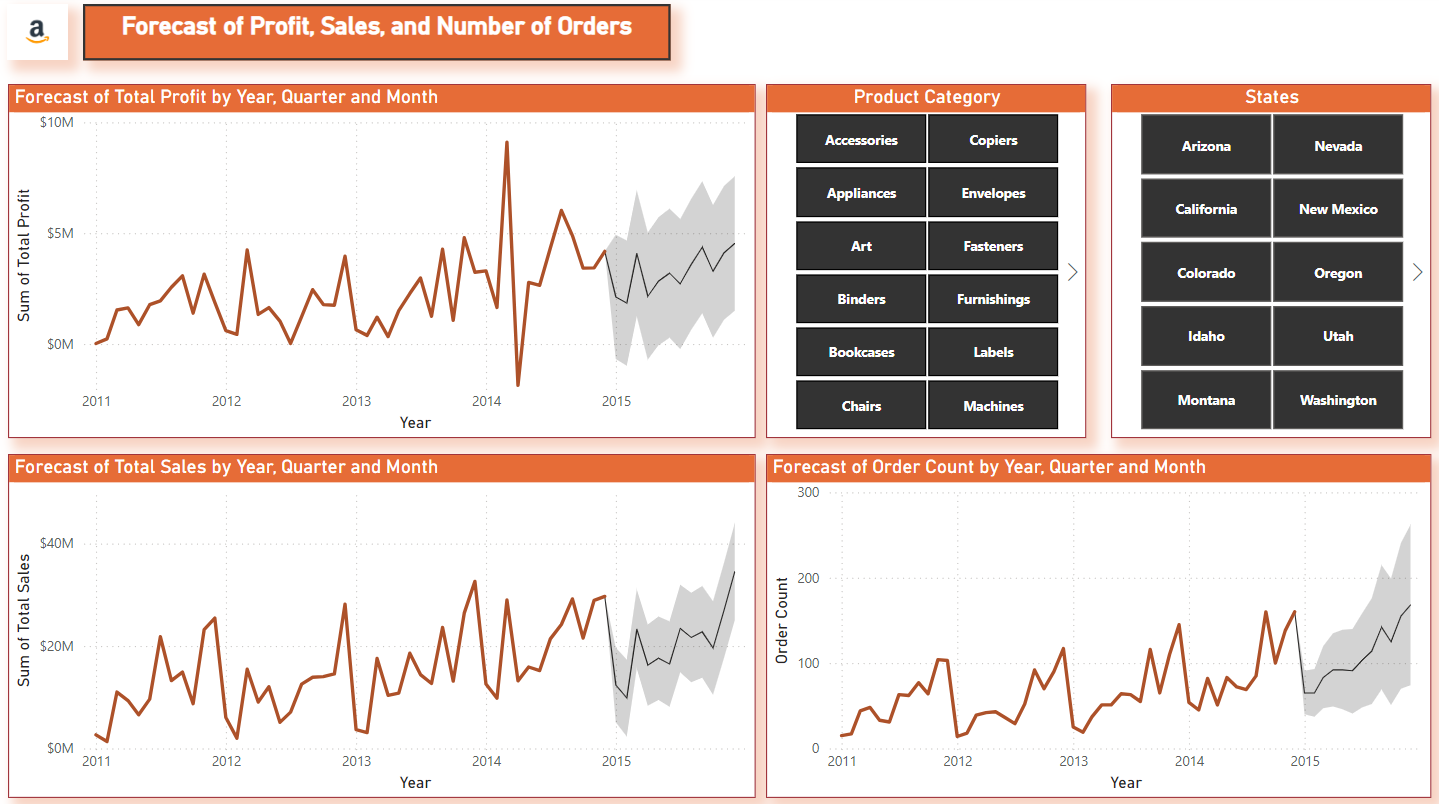

This screenshot's page, from the dashboard's own definition file:
{"tool":"powerbi","page":{"name":"Forecast of Profit, Sales, and Number of Orders","canvas":[1280,720],"ordinal":3},"visuals":[{"type":"lineChart","title":"Forecast of Total Profit by Year, Quarter and Month","fields":{"Category":["Dates.Date.Variation.Date Hierarchy.Year","Dates.Date.Variation.Date Hierarchy.Quarter","Dates.Date.Variation.Date Hierarchy.Month","Dates.Date.Variation.Date Hierarchy.Day"],"Y":["Sum(Sales.Total Profit)"]},"box":[9.7,78.8,663.3,314.2],"z":0},{"type":"lineChart","title":"Forecast of Total Sales by Year, Quarter and Month","fields":{"Category":["Dates.Date.Variation.Date Hierarchy.Year","Dates.Date.Variation.Date Hierarchy.Quarter","Dates.Date.Variation.Date Hierarchy.Month","Dates.Date.Variation.Date Hierarchy.Day"],"Y":["Sum(Sales.Total Sales)"]},"box":[9.7,406.6,663.3,305.4],"z":1000},{"type":"lineChart","title":"Forecast of Order Count by Year, Quarter and Month","fields":{"Category":["Dates.Date.Variation.Date Hierarchy.Year","Dates.Date.Variation.Date Hierarchy.Quarter","Dates.Date.Variation.Date Hierarchy.Month","Dates.Date.Variation.Date Hierarchy.Day"],"Y":["Sales.Order Count"]},"box":[681.8,406.6,590.4,305.4],"z":2000},{"type":"slicer","title":"States","fields":{"Values":["Sales.States"]},"box":[988.2,78.8,284,314.2],"z":3000},{"type":"image","box":[8.8,7.8,54.5,49.6],"z":4000},{"type":"textbox","box":[75.9,7.8,521.3,49.6],"z":5000},{"type":"slicer","title":"Product Category","fields":{"Values":["Sales.Category"]},"box":[681.8,78.8,284,314.2],"z":6000}]}

Visuals, with their boxes in screenshot pixels (x1, y1, x2, y2), scaled from the page's 1280x720 canvas onto the 1439x804 screenshot:
"Forecast of Total Profit by Year, Quarter and Month" lineChart: 11 88 757 439
"Forecast of Total Sales by Year, Quarter and Month" lineChart: 11 454 757 795
"Forecast of Order Count by Year, Quarter and Month" lineChart: 766 454 1430 795
"States" slicer: 1111 88 1430 439
image: 10 9 71 64
textbox: 85 9 671 64
"Product Category" slicer: 766 88 1086 439
